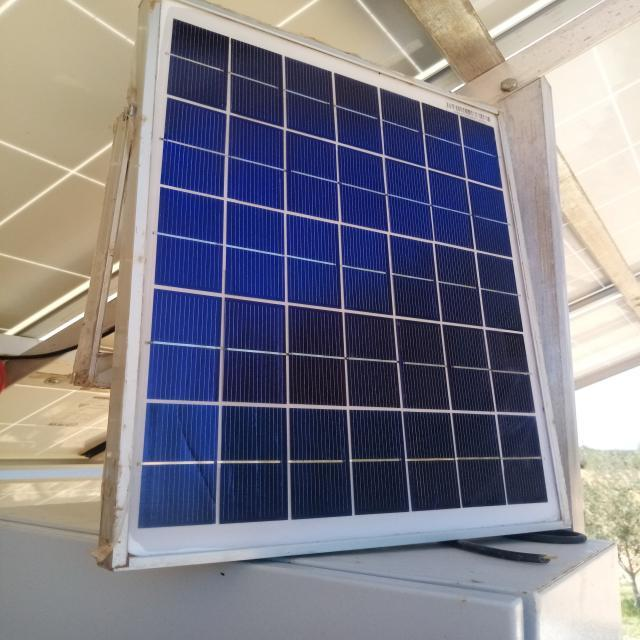no faulty: (119, 0, 569, 567)
